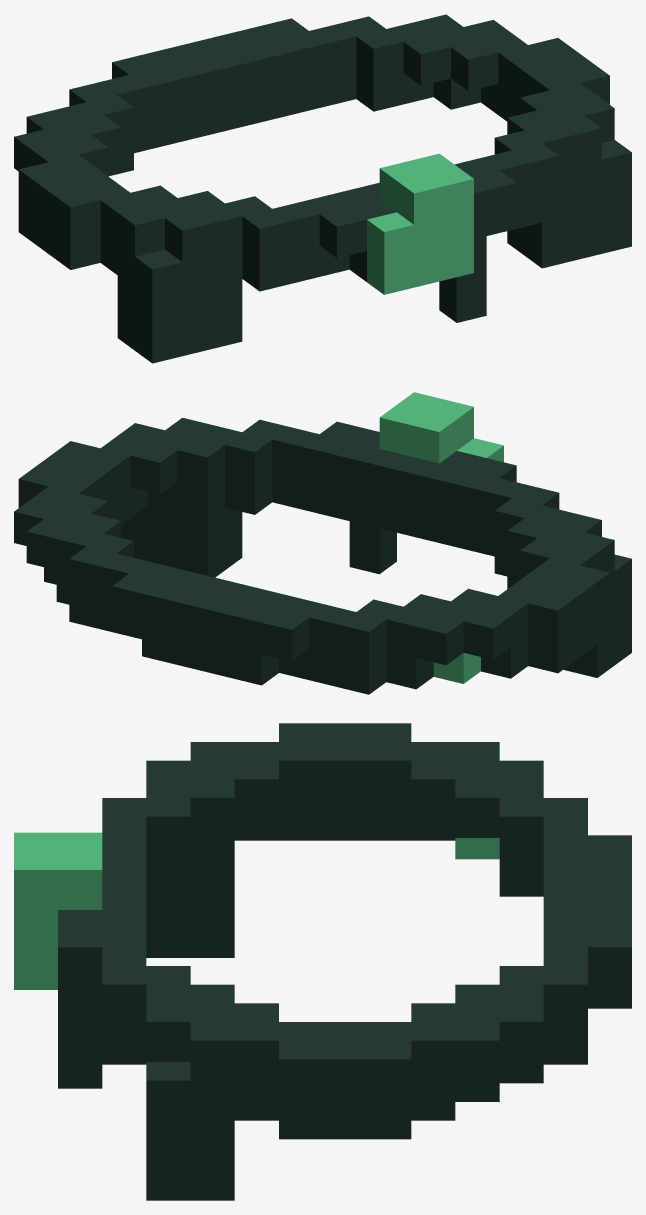
Rendered from mystic_common_belt_lod1.glb.
3 views of the same model, one above another, from view 1: azimuth 30°, elevation 25°; view 2: azimuth 150°, elevation 25°; view 3: azimuth 270°, elevation 25° (orthographic). The views are drawn at different scales.
Parts seen in each view (by area): view 1: mystic_common_belt_lod1; view 2: mystic_common_belt_lod1; view 3: mystic_common_belt_lod1.
Part boxes in pixels (left/top/right/bottom): mystic_common_belt_lod1: left=14, top=14, right=631, bottom=363; mystic_common_belt_lod1: left=14, top=392, right=631, bottom=694; mystic_common_belt_lod1: left=14, top=723, right=631, bottom=1200.
Bounding box in the file's own units: 0.432 × 0.12 × 0.336.
